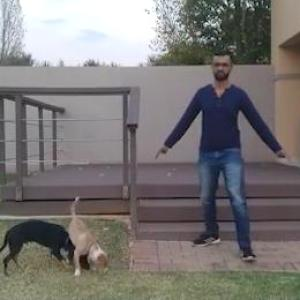land: (158, 52, 299, 270)
